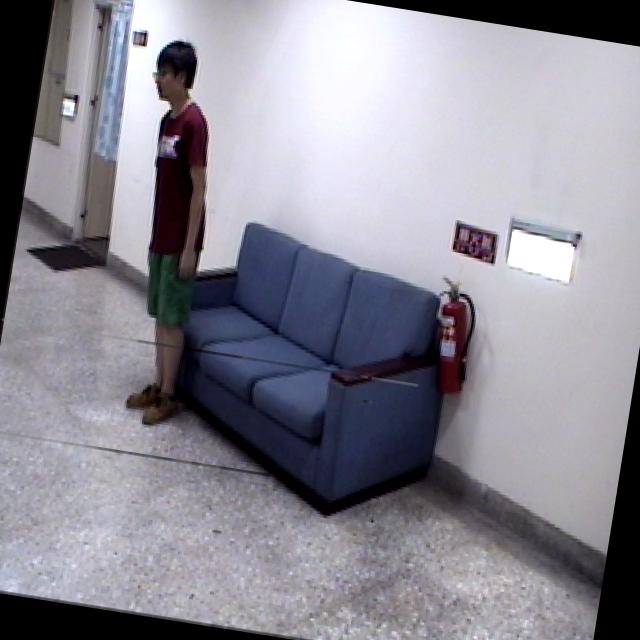stand: (84, 27, 254, 446)
